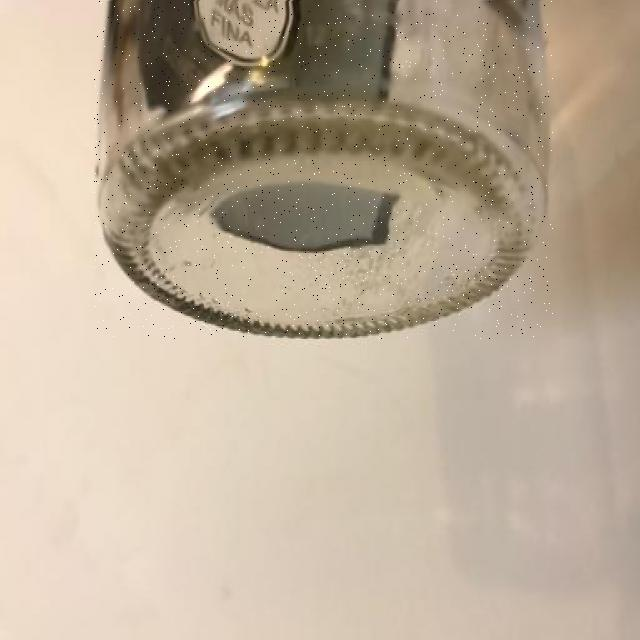glass: (95, 1, 553, 338)
